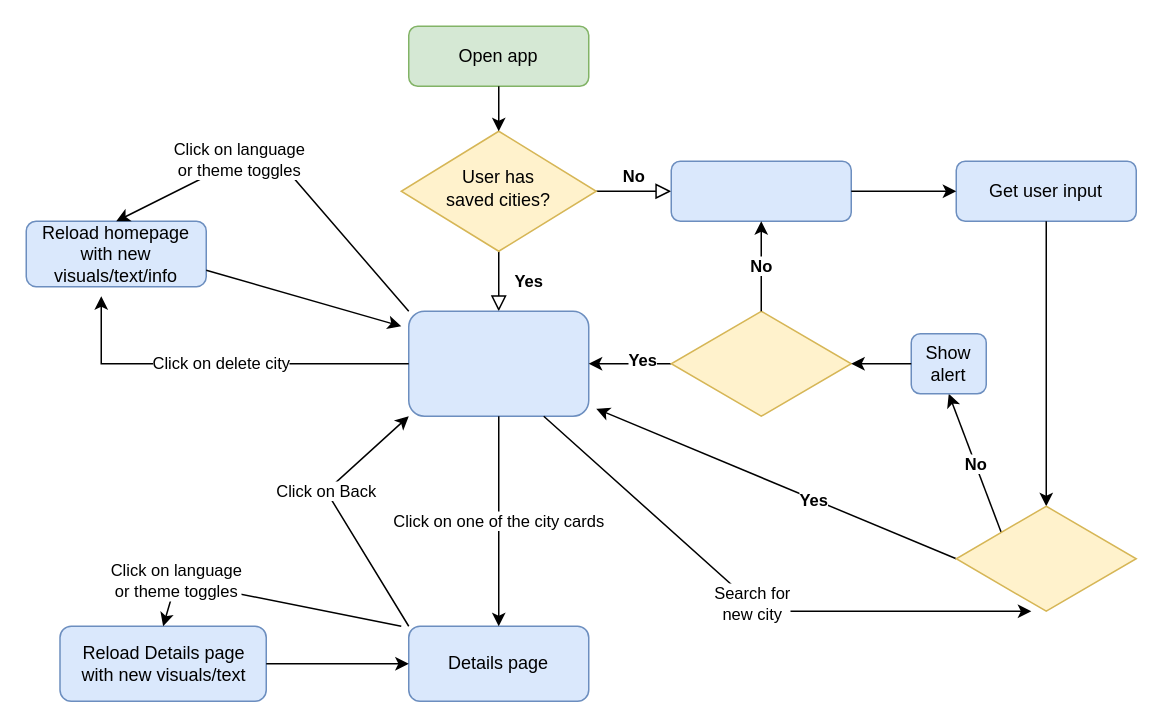
The diagram is 1163 pixels wide and 728 high, and some of its shapes have lost their labels. Here are the shapes that lost their labels. From the top down, the centre of each, then its label:
point 760,190: Show call to action
point 498,363: Get and display weather for cities
point 760,363: User already has cities saved?
point 1045,558: Is input valid?
